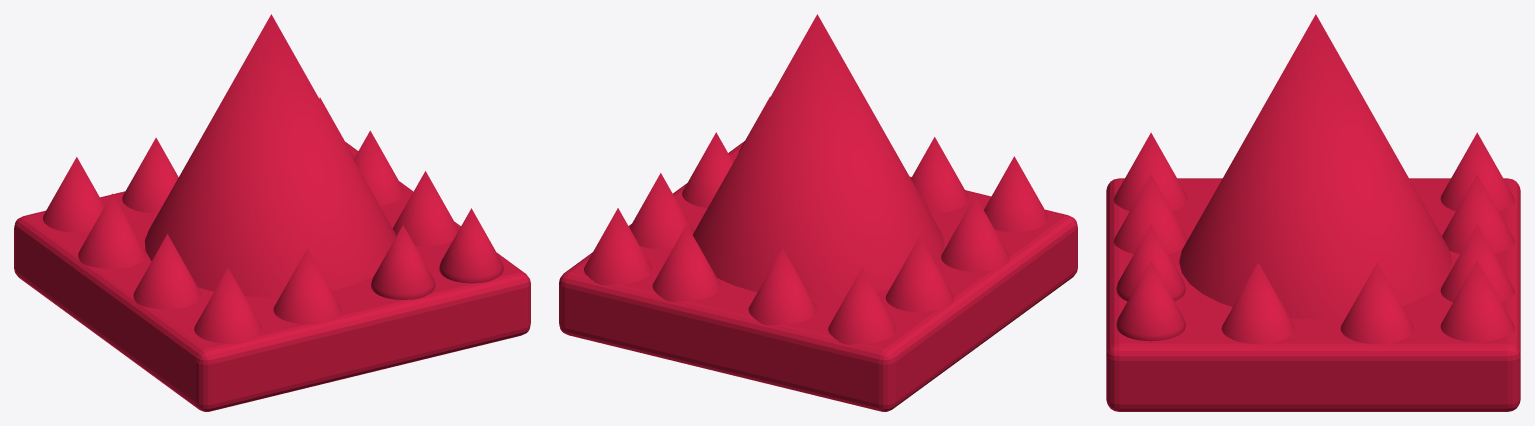
The model's file is spike.fbx.
The picture shows the model from 3 angles, left to right: view 1: azimuth 30°, elevation 25°; view 2: azimuth 150°, elevation 25°; view 3: azimuth 270°, elevation 25°; orthographic projection. The views are drawn at different scales.
Parts seen in each view (by area): view 1: Cone.002, Cone.001; view 2: Cone.002, Cone.001; view 3: Cone.002, Cone.001.
Part boxes in pixels (x1=…): Cone.002: x1=14, y1=14, x2=530, y2=411; Cone.001: x1=273, y1=248, x2=341, y2=324; Cone.002: x1=559, y1=14, x2=1077, y2=411; Cone.001: x1=911, y1=137, x2=968, y2=212; Cone.002: x1=1106, y1=14, x2=1520, y2=411; Cone.001: x1=1113, y1=174, x2=1187, y2=253.
Bounding box in the file's own units: 200 × 167 × 200.
